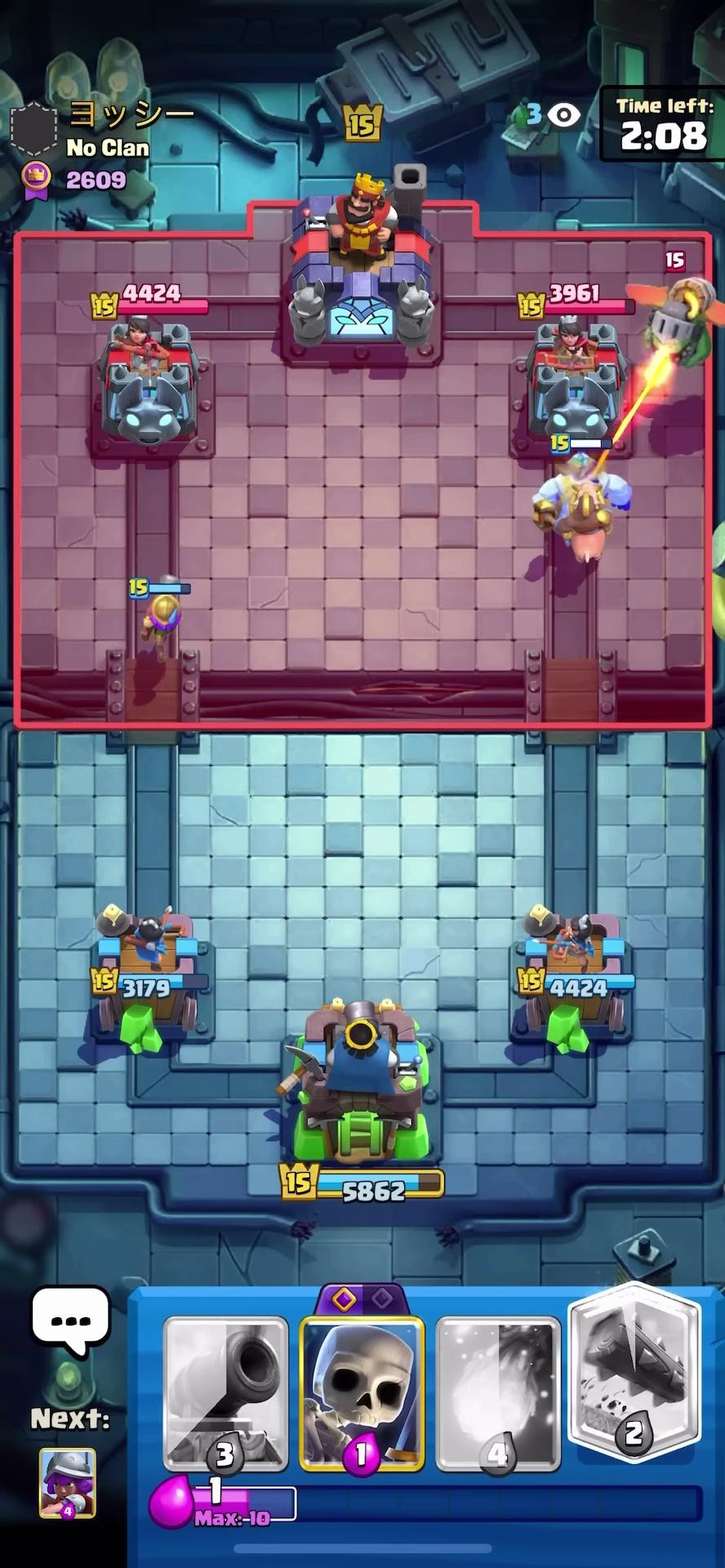hog_rider: (527, 482, 627, 580)
ice_golem: (525, 451, 645, 525)
musketeer: (118, 570, 220, 657)
